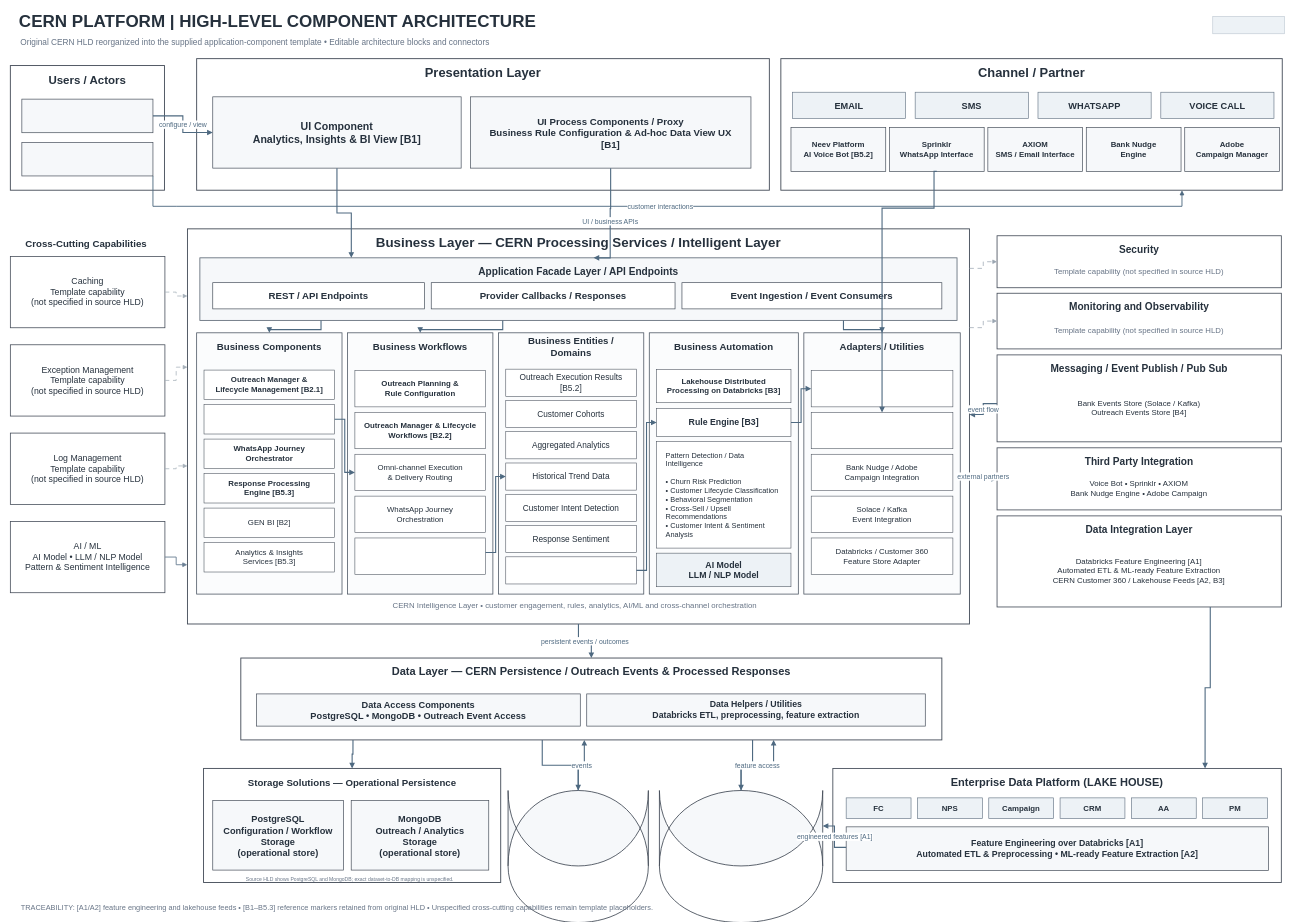
Image size: 1293x922. Some labels were removed from this diagram. Each missing label, with the centre of its shape:
Business Users: point (87, 116)
CERN Customer 360 Features Repository [B3]: point (741, 828)
Customer 360 Features [B3]: point (570, 570)
Customers: point (87, 159)
HLD • v1: point (1248, 25)
Neev / Sprinklr / AXIOM Communication Connectors: point (882, 430)
Omni-channel Communication [B5 / B5.1]: point (269, 419)
Omni-channel Provider Integration Adapters: point (882, 388)
Outreach Events Store [B4]: point (578, 828)
Response Processing & Outcome Capture: point (420, 555)
